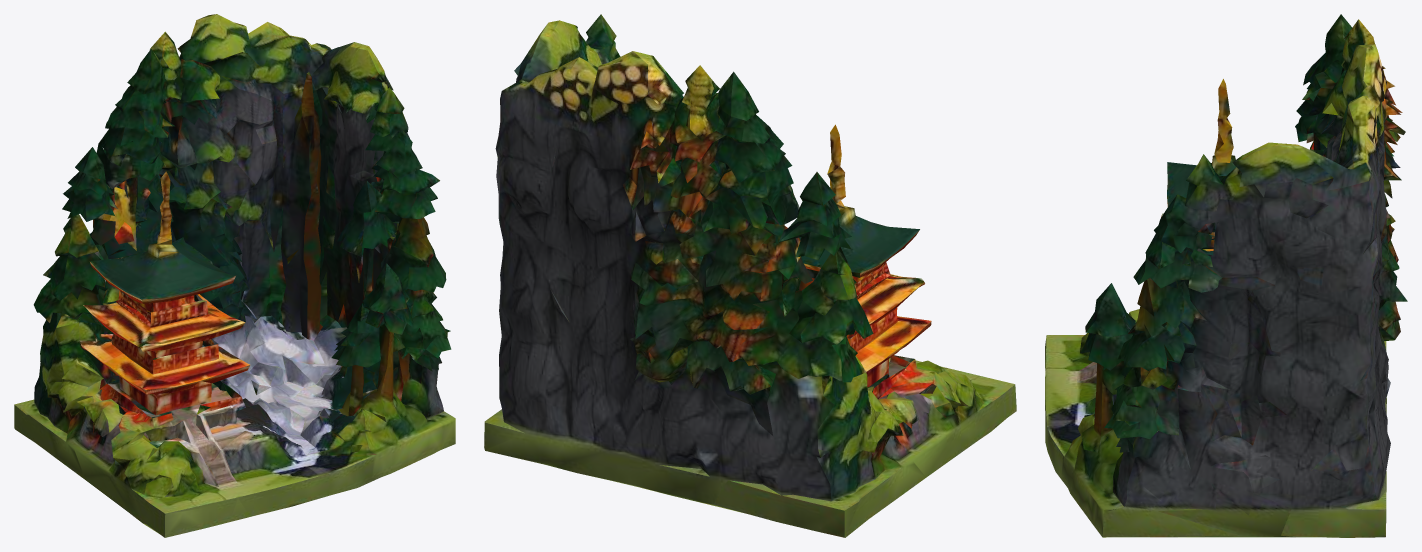
File: nachi-falls.glb
The picture shows the model from 3 angles, left to right: view 1: azimuth 30°, elevation 25°; view 2: azimuth 150°, elevation 25°; view 3: azimuth 270°, elevation 25°; orthographic projection. The views are drawn at different scales.
Visible parts, largest first — view 1: logan-textured.obj; view 2: logan-textured.obj; view 3: logan-textured.obj.
Part boxes in pixels (left/top/right/bottom): logan-textured.obj: left=14, top=14, right=455, bottom=537; logan-textured.obj: left=484, top=14, right=1016, bottom=537; logan-textured.obj: left=1045, top=14, right=1407, bottom=537.
Bounding box in the file's own units: 0.9193 × 1 × 0.7776.
1 material, 1 textured.
